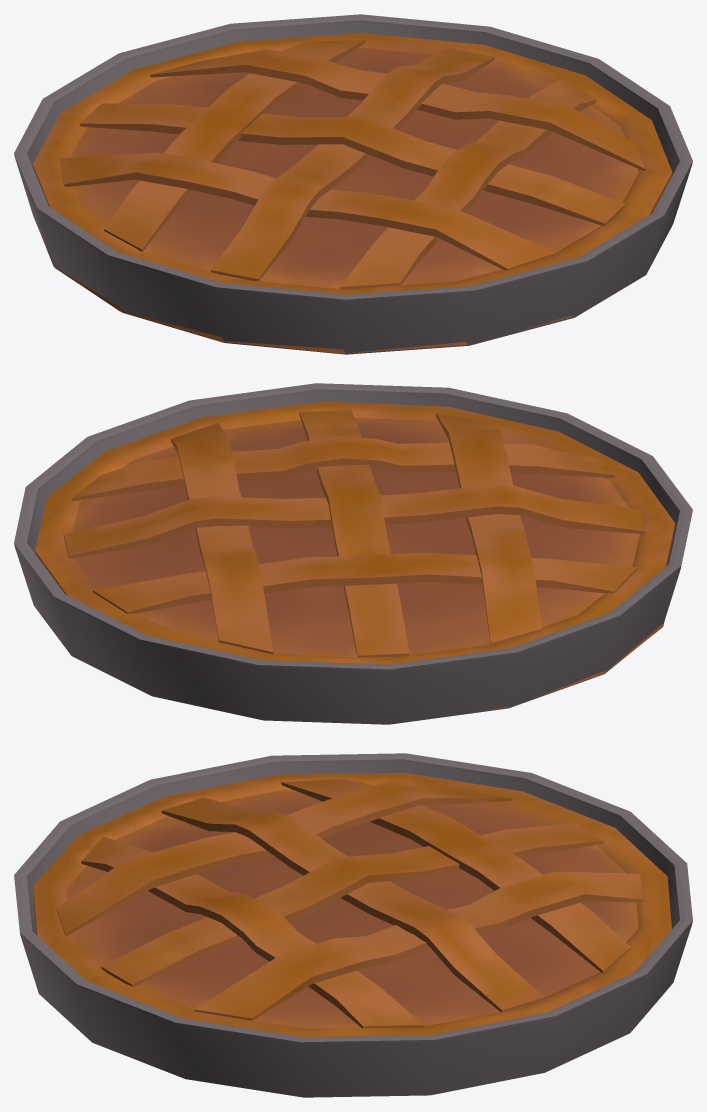
File: apple pie in cake tin.fbx
The picture shows the model from 3 angles, top to bottom: view 1: azimuth 30°, elevation 25°; view 2: azimuth 150°, elevation 25°; view 3: azimuth 270°, elevation 25°; orthographic projection.
Visible parts, largest first — view 1: pie pan; view 2: pie pan; view 3: pie pan.
Part boxes in pixels (bbox=[...]): pie pan: bbox=[14, 14, 692, 354]; pie pan: bbox=[14, 383, 692, 724]; pie pan: bbox=[14, 753, 692, 1097].
Bounding box in the file's own units: 31.15 × 4.95 × 31.15.
